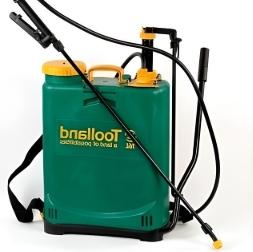PULVERISATEUR: (0, 3, 236, 252)
